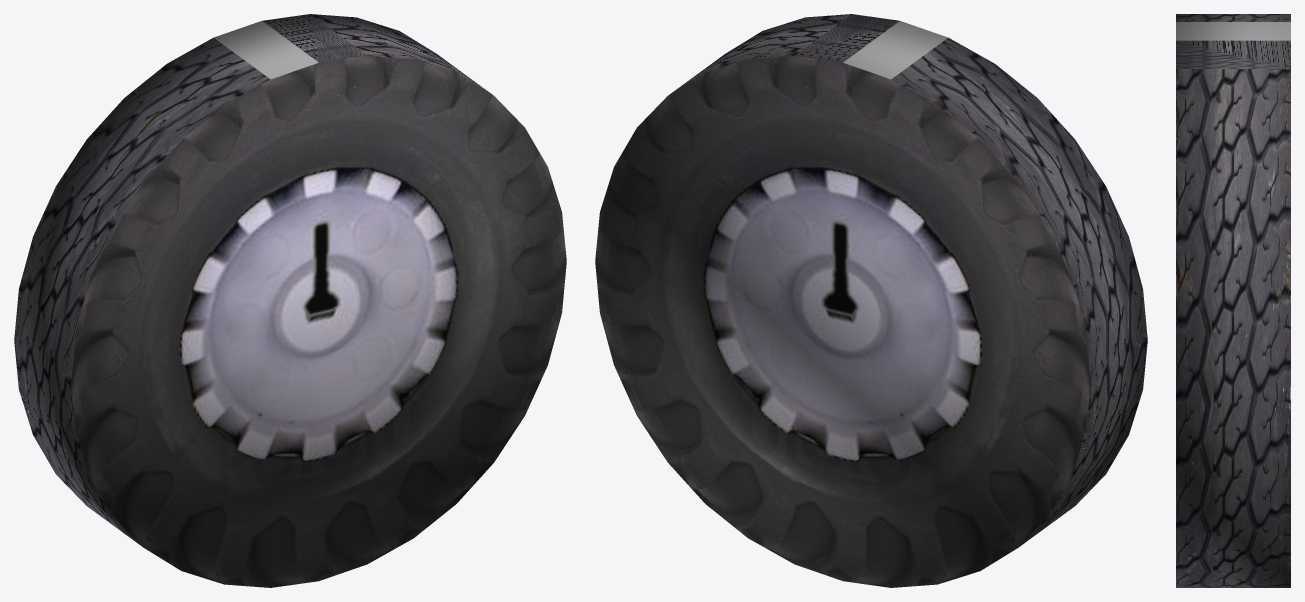
File: cilindro.obj
The picture shows the model from 3 angles, left to right: view 1: azimuth 30°, elevation 25°; view 2: azimuth 150°, elevation 25°; view 3: azimuth 270°, elevation 25°; orthographic projection.
Parts seen in each view (by area): view 1: Cylinder.001_Cylinder.001_None; view 2: Cylinder.001_Cylinder.001_None; view 3: Cylinder.001_Cylinder.001_None.
Boxes of the visible parts, bbox=[...] form: Cylinder.001_Cylinder.001_None: bbox=[14, 14, 566, 587]; Cylinder.001_Cylinder.001_None: bbox=[595, 14, 1147, 587]; Cylinder.001_Cylinder.001_None: bbox=[1176, 14, 1290, 587].
Size of the model in its own units: 2 by 2 by 0.4.
